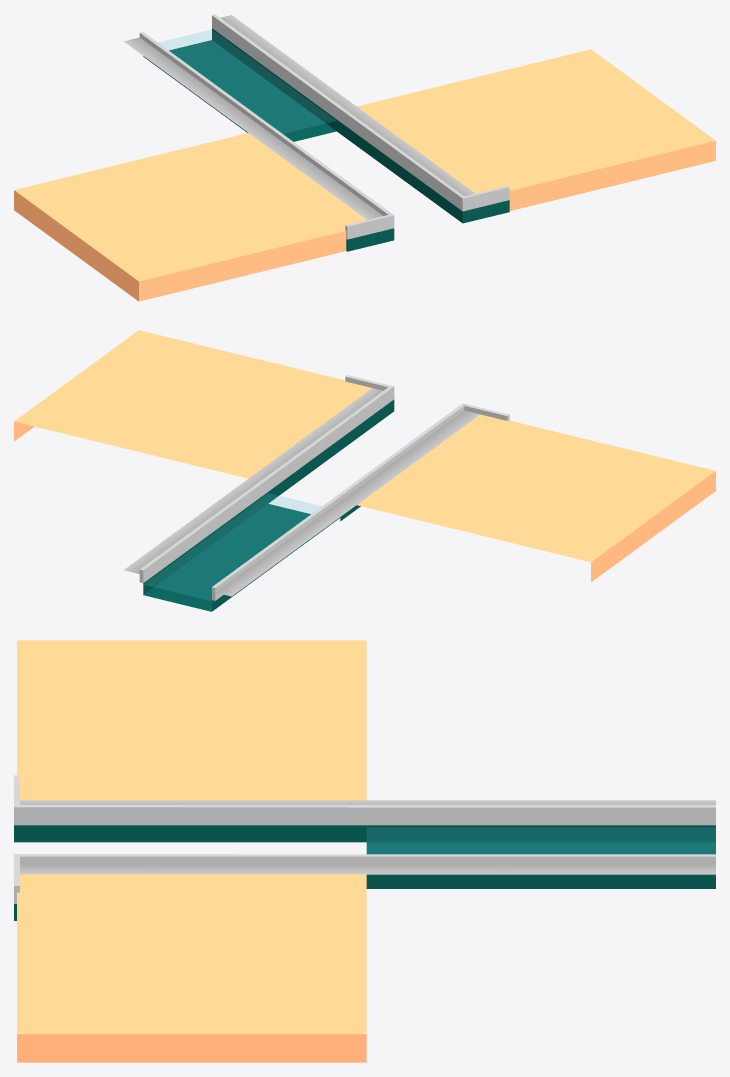
The model's file is RiverMouth_01.glb.
The picture shows the model from 3 angles, top to bottom: view 1: azimuth 30°, elevation 25°; view 2: azimuth 150°, elevation 25°; view 3: azimuth 270°, elevation 25°; orthographic projection. The views are drawn at different scales.
Parts seen in each view (by area): view 1: RiverMouth_01; view 2: RiverMouth_01; view 3: RiverMouth_01.
Boxes of the visible parts, left/top/right/bottom form: RiverMouth_01: left=14, top=14, right=715, bottom=301; RiverMouth_01: left=14, top=330, right=715, bottom=611; RiverMouth_01: left=14, top=640, right=715, bottom=1062.
Size of the model in its own units: 80 by 3.34 by 60.26.
Materials: 2 (2 with a texture image).
